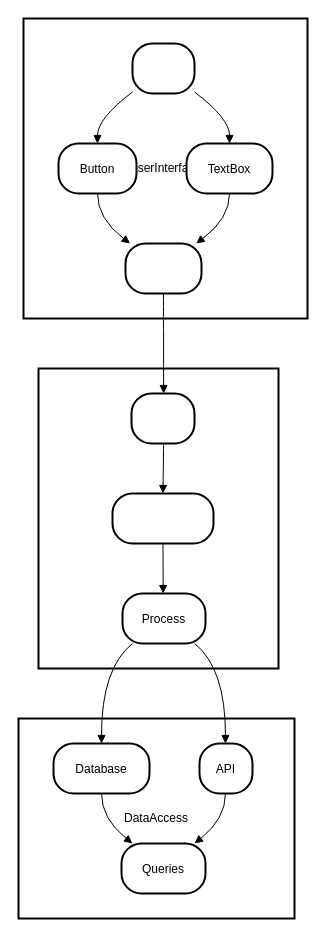
This 325x936 diagram has some shape labels left out. The shapes that lost their labels are listed below. From the top down, each one's centre as x and y in pixels, then its label:
At [163,68]: "User".
At [163,268]: "Action".
At [162,418]: "Data".
At [162,518]: "Validation".
